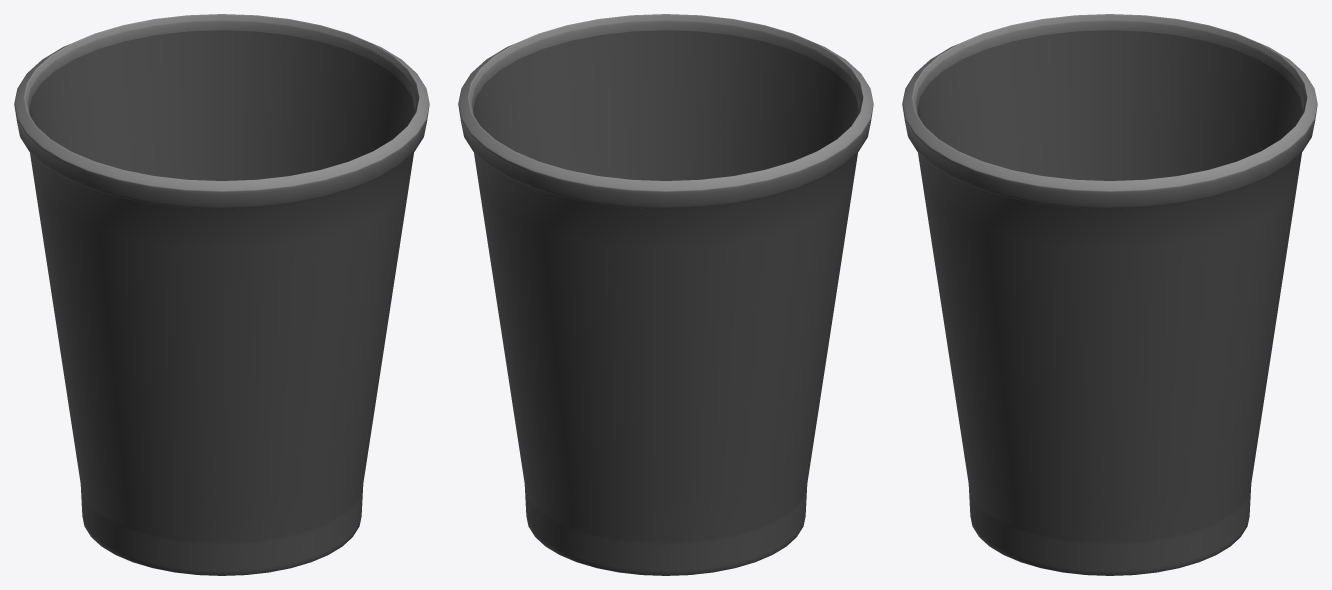
Rendered from TrashCan.FBX.
3 renders of one model, left to right at view 1: azimuth 30°, elevation 25°; view 2: azimuth 150°, elevation 25°; view 3: azimuth 270°, elevation 25°, orthographic.
Parts seen in each view (by area): view 1: Trash Can; view 2: Trash Can; view 3: Trash Can.
Boxes of the visible parts, x1=… form: Trash Can: x1=14, y1=14, x2=429, y2=575; Trash Can: x1=458, y1=14, x2=873, y2=575; Trash Can: x1=902, y1=14, x2=1317, y2=575.
Size of the model in its own units: 182 by 203 by 182.
Materials: 1 (1 with a texture image).
